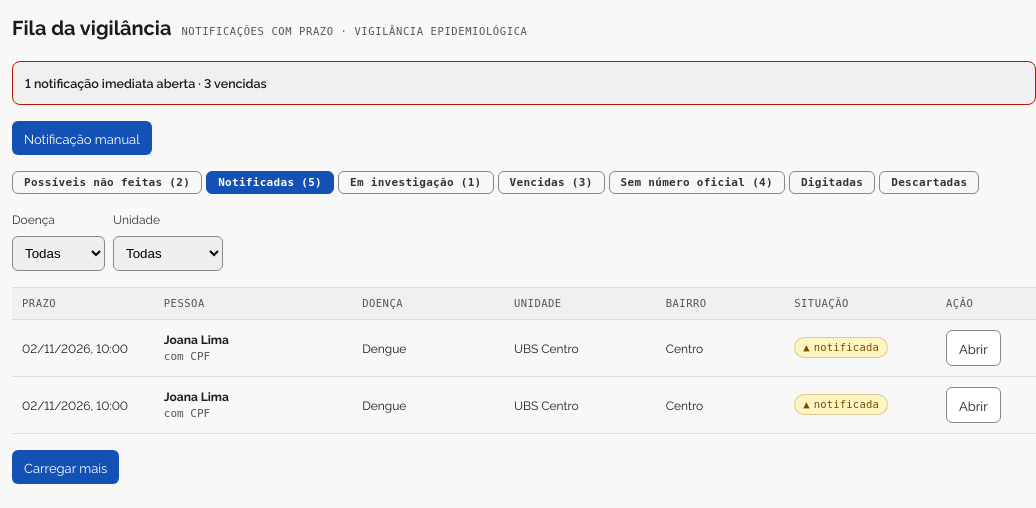
Test case: SurveillanceQueue › carregar mais anexa a página sem repetir linhas (A12) e some quando acaba
Click the button "Carregar mais". click: {"x": 66, "y": 467}
box: [12,450,119,484]
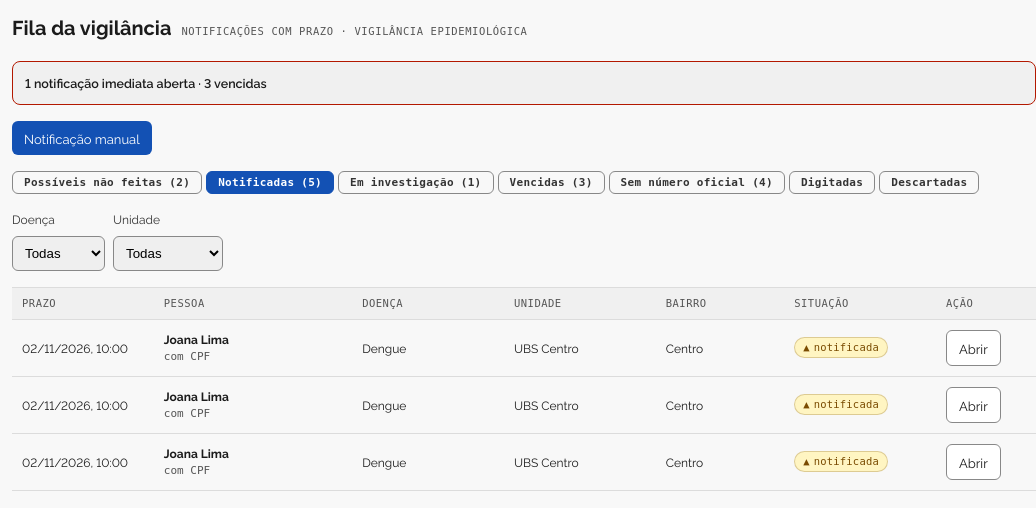
Check: the button "Carregar mais" is gone
